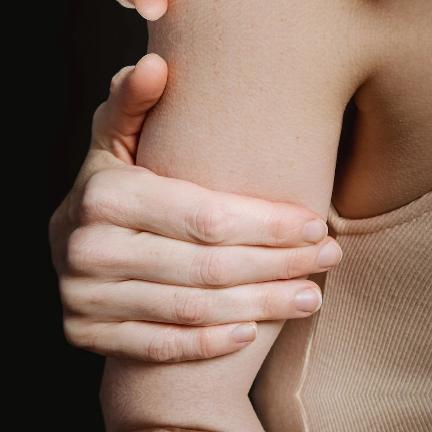Nail: (295, 286, 322, 312), (318, 239, 342, 267), (303, 217, 328, 242), (232, 321, 257, 342)
